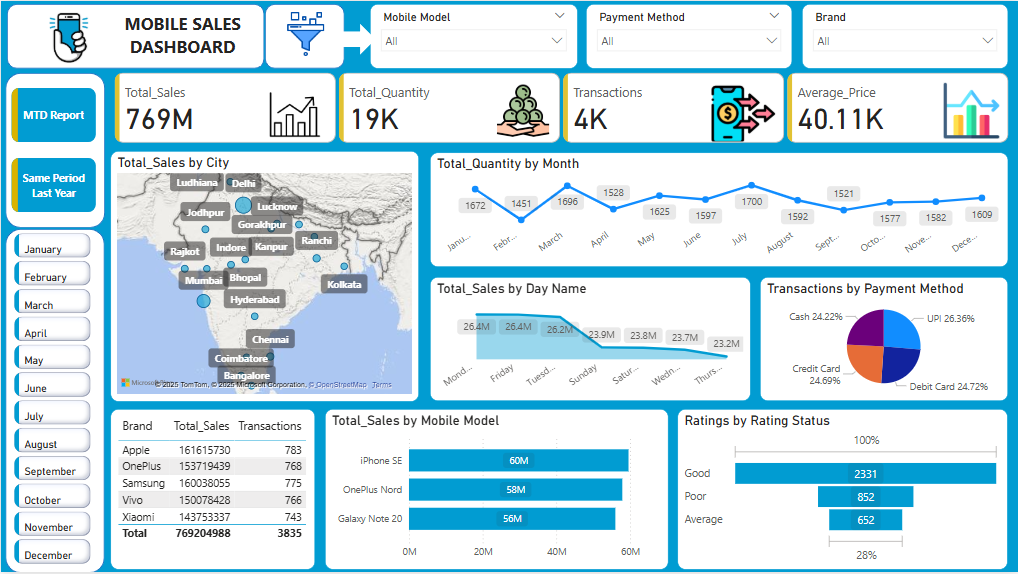

The page's visual inventory and layout, read from the dashboard file:
{"tool":"powerbi","page":{"name":"Dashboard","canvas":[1280,720],"ordinal":0},"visuals":[{"type":"shape","box":[5.1,89.8,125.4,194.9],"z":0},{"type":"shape","box":[5.7,287.2,124.7,432.8],"z":1000},{"type":"advancedSlicerVisual","fields":{"Values":["Custom_Calendar.Date.Variation.Date Hierarchy.Month"]},"box":[11.9,286.4,106.8,433.9],"z":2000},{"type":"cardVisual","fields":{"Data":["Sales_Data.Total_Sales","Sales_Data.Total_Quantity","Sales_Data.Transactions","Sales_Data.Average_Price"]},"box":[137.3,84.7,1135.6,98.3],"z":3000},{"type":"slicer","fields":{"Values":["Sales_Data.Mobile Model"]},"box":[464.4,3.4,261,81.4],"z":4000},{"type":"slicer","fields":{"Values":["Sales_Data.Payment Method"]},"box":[736.4,3.4,259.3,81.4],"z":5000},{"type":"slicer","fields":{"Values":["Sales_Data.Brand"]},"box":[1006.8,3.4,259.3,81.4],"z":6000},{"type":"shape","box":[332.2,3.4,100,81.4],"z":7000},{"type":"image","box":[333.9,8.5,98.3,67.8],"z":8000},{"type":"shape","box":[420.6,28.6,50.8,39.7],"z":9000},{"type":"shape","box":[8.5,3.4,323.7,81.4],"z":10000},{"type":"textbox","box":[130.4,7.6,196.5,73.7],"z":11000},{"type":"map","fields":{"Category":["Sales_Data.City"],"Size":["Sales_Data.Total_Sales"]},"box":[137.3,188.1,388.1,315.3],"z":12000},{"type":"lineChart","fields":{"Y":["Sales_Data.Total_Quantity"],"Category":["Custom_Calendar.Date.Variation.Date Hierarchy.Month"]},"box":[539,189.8,727.1,144.1],"z":13000},{"type":"funnel","title":"Ratings by Rating Status","fields":{"Category":["Sales_Data.Rating Status"],"Y":["CountNonNull(Sales_Data.Customer Age)"]},"box":[850.8,513.6,415.3,201.7],"z":14000},{"type":"pieChart","fields":{"Category":["Sales_Data.Payment Method"],"Y":["Sales_Data.Transactions"]},"box":[954.2,347.5,311.9,155.9],"z":15000},{"type":"clusteredBarChart","fields":{"Y":["Sales_Data.Total_Sales"],"Category":["Sales_Data.Mobile Model"]},"box":[406.8,513.6,432.2,201.7],"z":16000},{"type":"areaChart","fields":{"Y":["Sales_Data.Total_Sales"],"Category":["Custom_Calendar.Day Name"]},"box":[539,347.5,403.4,155.9],"z":17000},{"type":"tableEx","fields":{"Values":["Sales_Data.Brand","Sales_Data.Total_Sales","Sales_Data.Transactions"]},"box":[137.3,513.6,257.6,201.7],"z":18000},{"type":"image","box":[0,0,171.2,91.5],"z":19000},{"type":"pageNavigator","box":[13.6,110.2,106.8,157.6],"z":20000}]}

Visuals, with their boxes in screenshot pixels (x1, y1, x2, y2), scaled from the page's 1280x720 canvas onto the 1018x574 screenshot:
shape: crop(4, 72, 104, 227)
shape: crop(5, 229, 104, 573)
advancedSlicerVisual - Custom_Calendar.Date.Variation.Date Hierarchy.Month: crop(9, 228, 94, 573)
cardVisual - Sales_Data.Total_Sales x Sales_Data.Total_Quantity: crop(109, 68, 1012, 146)
slicer - Sales_Data.Mobile Model: crop(369, 3, 577, 68)
slicer - Sales_Data.Payment Method: crop(586, 3, 792, 68)
slicer - Sales_Data.Brand: crop(801, 3, 1007, 68)
shape: crop(264, 3, 344, 68)
image: crop(266, 7, 344, 61)
shape: crop(335, 23, 375, 54)
shape: crop(7, 3, 264, 68)
textbox: crop(104, 6, 260, 65)
map - Sales_Data.City x Sales_Data.Total_Sales: crop(109, 150, 418, 401)
lineChart - Sales_Data.Total_Quantity x Custom_Calendar.Date.Variation.Date Hierarchy.Month: crop(429, 151, 1007, 266)
"Ratings by Rating Status" funnel: crop(677, 409, 1007, 570)
pieChart - Sales_Data.Payment Method x Sales_Data.Transactions: crop(759, 277, 1007, 401)
clusteredBarChart - Sales_Data.Total_Sales x Sales_Data.Mobile Model: crop(324, 409, 667, 570)
areaChart - Sales_Data.Total_Sales x Custom_Calendar.Day Name: crop(429, 277, 750, 401)
tableEx - Sales_Data.Brand x Sales_Data.Total_Sales: crop(109, 409, 314, 570)
image: crop(0, 0, 136, 73)
pageNavigator: crop(11, 88, 96, 213)
